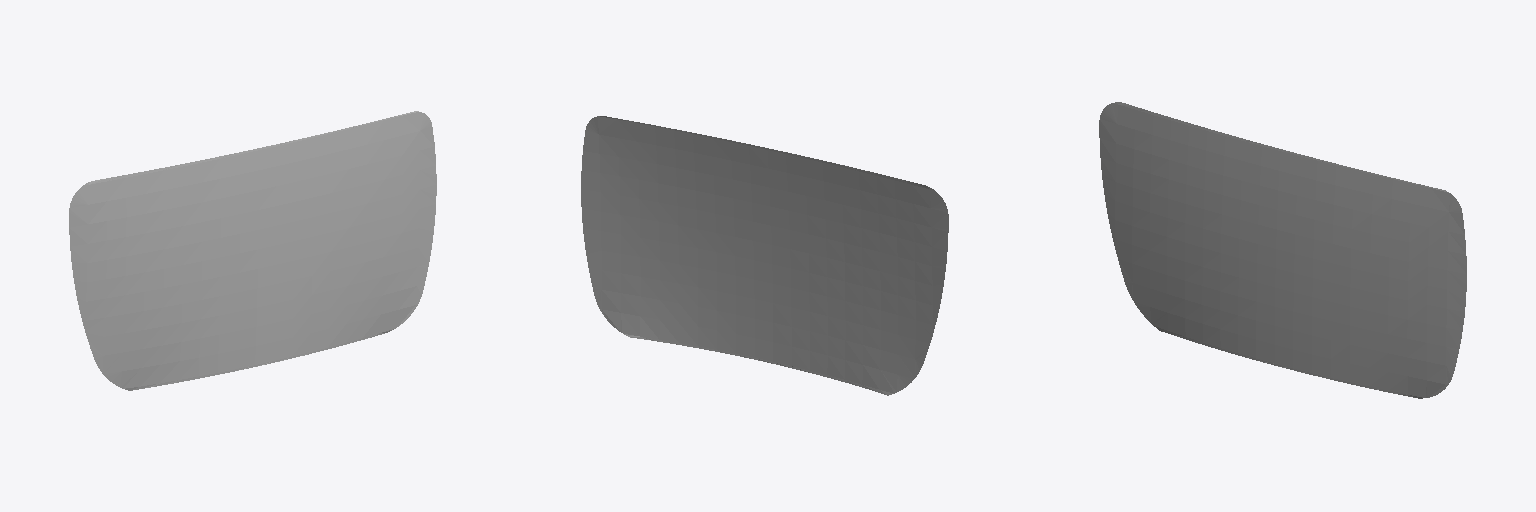
The model's file is original-11.obj.
The picture shows the model from 3 angles: view 1: azimuth 30°, elevation 25°; view 2: azimuth 150°, elevation 25°; view 3: azimuth 330°, elevation 25°; orthographic projection.
Visible parts, largest first — view 1: Group7/mesh7/mesh7-geometry#mesh7-geometry; view 2: Group7/mesh7/mesh7-geometry#mesh7-geometry; view 3: Group7/mesh7/mesh7-geometry#mesh7-geometry.
Part boxes in pixels (bbox=[...]): Group7/mesh7/mesh7-geometry#mesh7-geometry: bbox=[69, 111, 436, 390]; Group7/mesh7/mesh7-geometry#mesh7-geometry: bbox=[581, 116, 948, 395]; Group7/mesh7/mesh7-geometry#mesh7-geometry: bbox=[1099, 102, 1466, 398].
Bounding box in the file's own units: 0.4765 × 0.2774 × 0.0141.